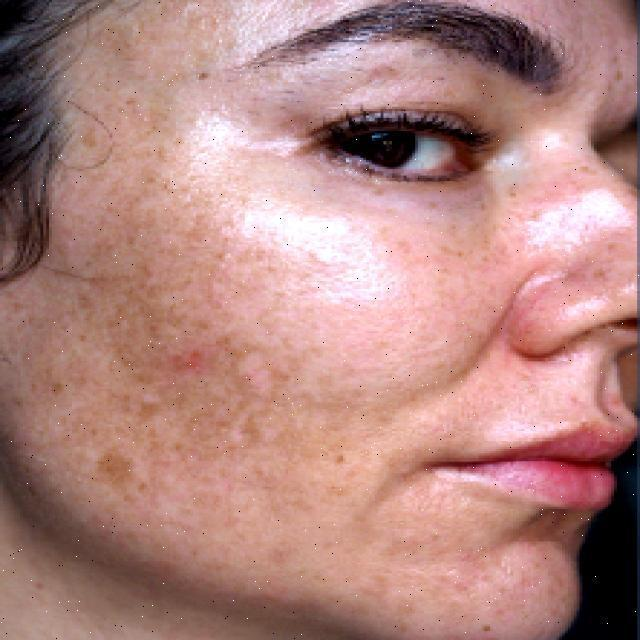Melasma: (77, 1, 371, 532)
